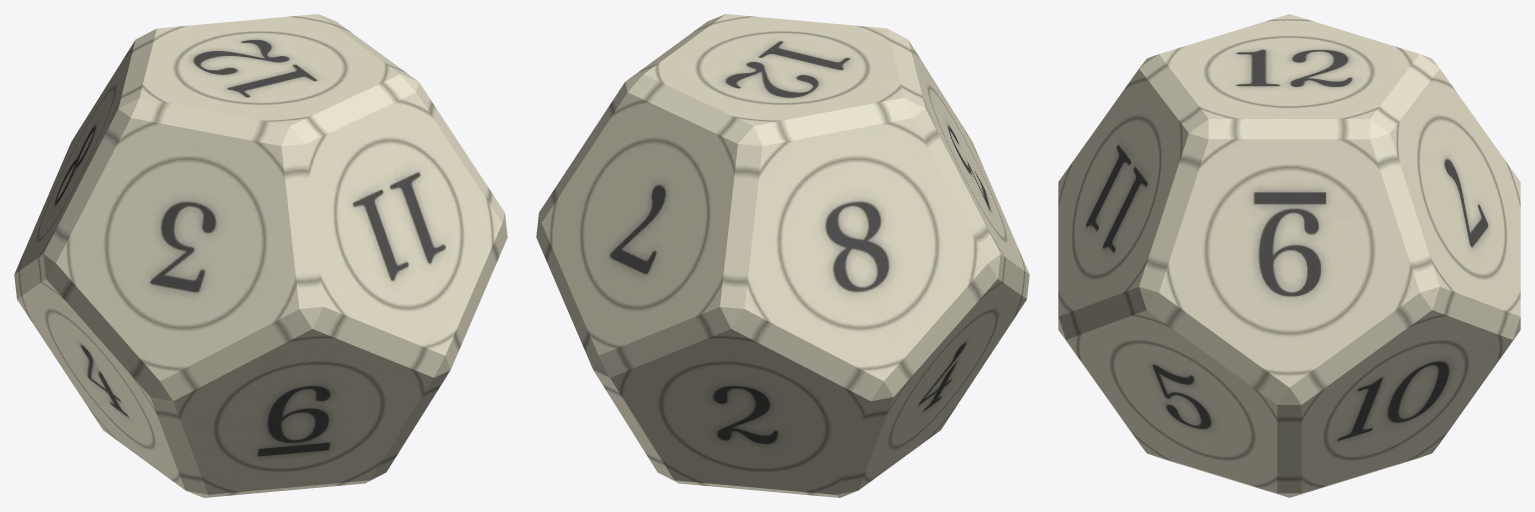
3 views of the same model, side by side, from view 1: azimuth 30°, elevation 25°; view 2: azimuth 150°, elevation 25°; view 3: azimuth 270°, elevation 25° (orthographic). The views are drawn at different scales.
Parts seen in each view (by area): view 1: D12; view 2: D12; view 3: D12.
Part boxes in pixels (x1,y1,x2,y2): D12: [14, 14, 507, 497]; D12: [536, 14, 1029, 497]; D12: [1058, 14, 1520, 497].
Bounding box in the file's own units: 2.8 × 2.34 × 2.66.
1 material, 1 textured.
